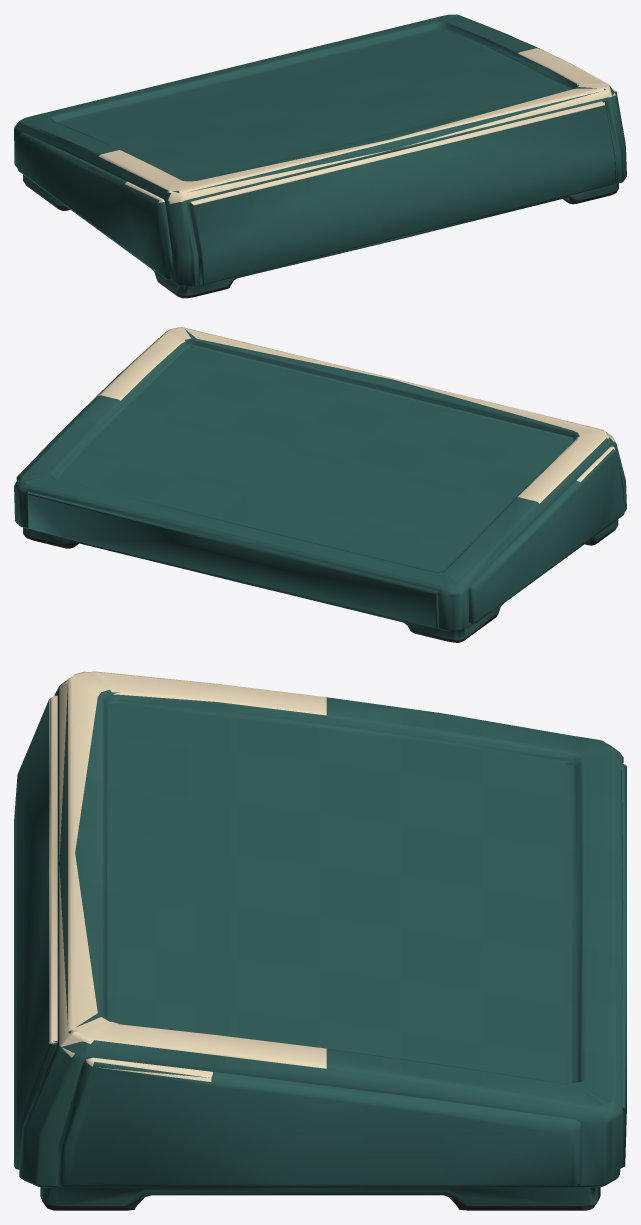
Rendered from H01_atlas_v1.glb.
3 views of the same model, one above another, from view 1: azimuth 30°, elevation 25°; view 2: azimuth 150°, elevation 25°; view 3: azimuth 270°, elevation 25° (orthographic). The views are drawn at different scales.
Visible parts, largest first — view 1: H01_Housing_Shell; view 2: H01_Housing_Shell; view 3: H01_Housing_Shell.
Part boxes in pixels (x1,y1,x2,y2): H01_Housing_Shell: [14, 14, 626, 298]; H01_Housing_Shell: [14, 327, 626, 642]; H01_Housing_Shell: [14, 671, 626, 1210].
Size of the model in its own units: 6 by 1.25 by 4.
1 material, 1 textured.
